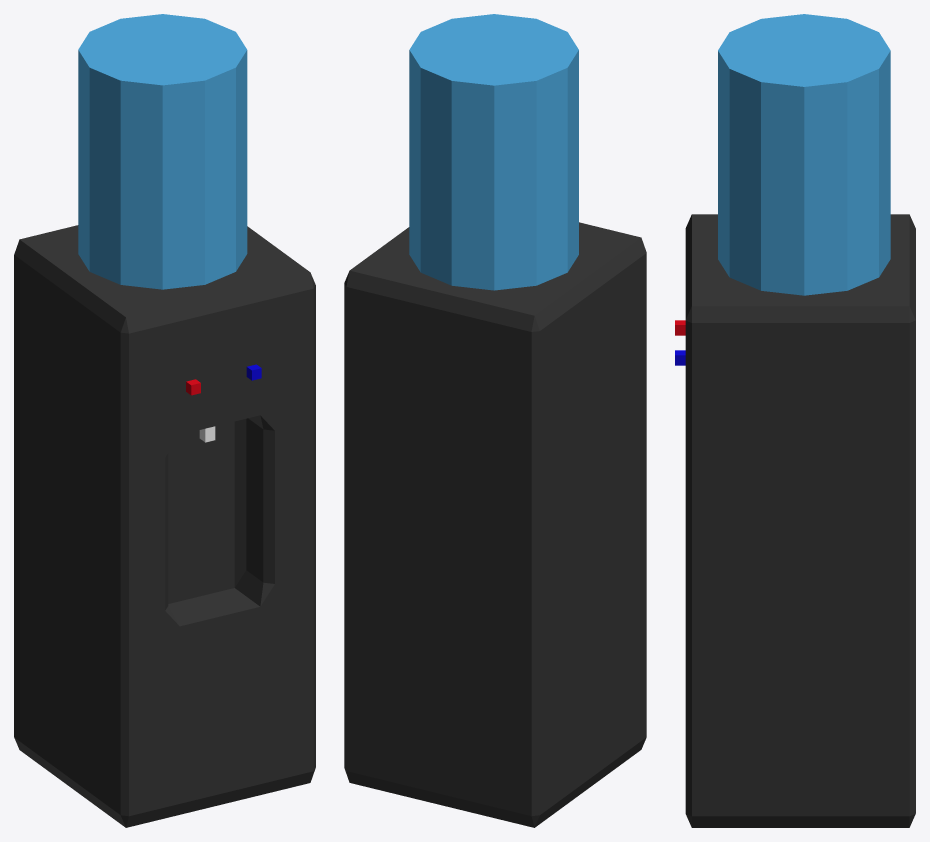
The model's file is su_sebili.fbx.
3 views of the same model, side by side, from view 1: azimuth 30°, elevation 25°; view 2: azimuth 150°, elevation 25°; view 3: azimuth 270°, elevation 25° (orthographic). The views are drawn at different scales.
Parts seen in each view (by area): view 1: Cube.001; view 2: Cube.001; view 3: Cube.001.
Boxes of the visible parts, x1,y1,x2,y2 form: Cube.001: (14, 14, 315, 827); Cube.001: (344, 14, 646, 827); Cube.001: (675, 14, 915, 827).
Size of the model in its own units: 20 by 70.07 by 20.91.
